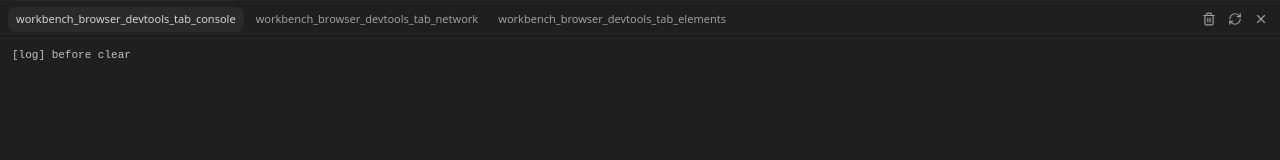
Test: BrowserDevtoolsPanel › limpa o console ao clicar em limpar
Expected: the text "[log] before clear" is shown, 12,48 -> 131,60
Click the button titled "workbench_browser_devtools_console_clear". click: [1209, 19]
box: 1198,8 -> 1220,30
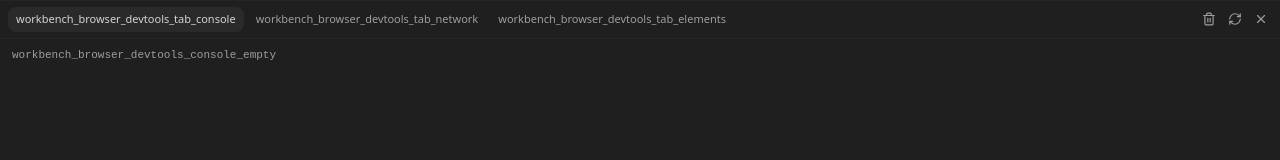
Expected: the text "workbench_browser_devtools_console_empty" is shown, 12,48 -> 276,60
